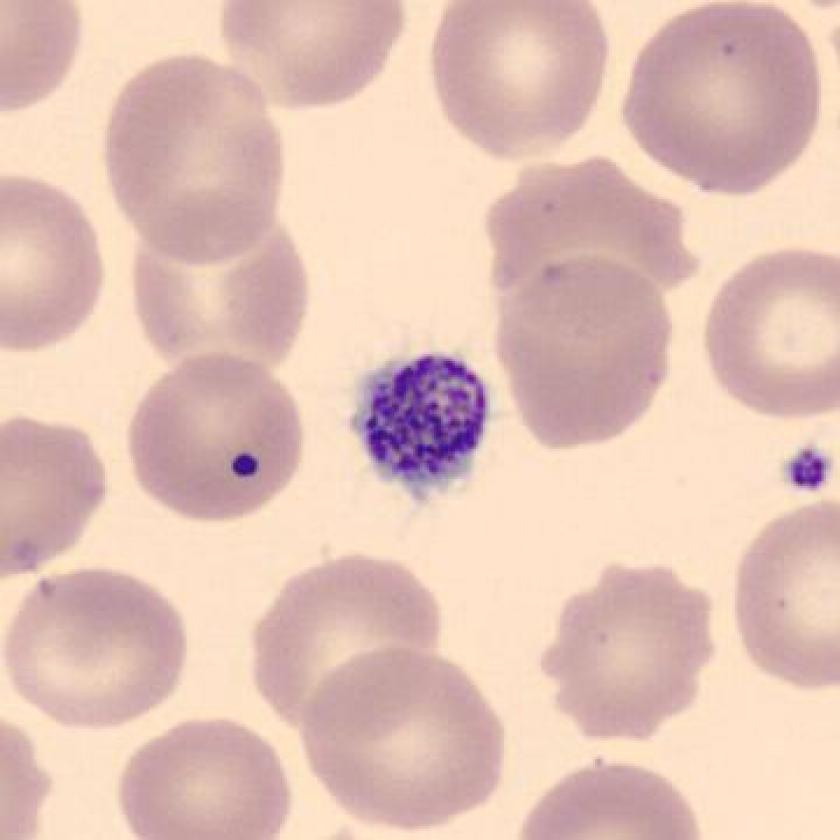platelets: (342, 337, 505, 510)
